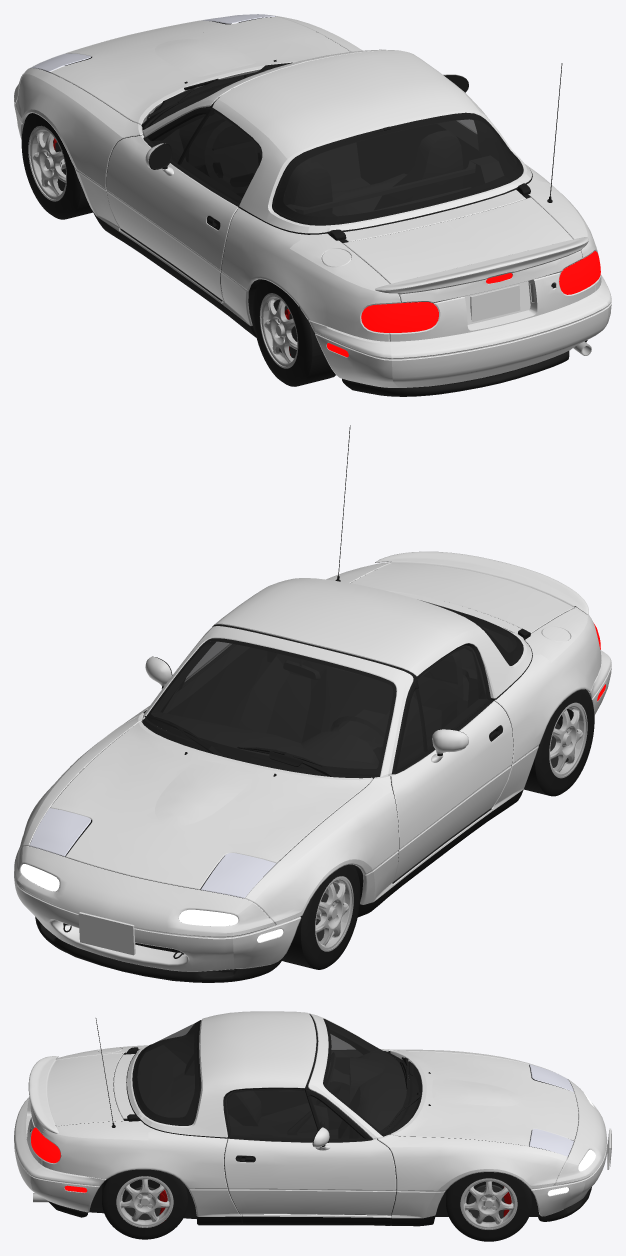
File: sillymobile.glb
The picture shows the model from 3 angles, top to bottom: view 1: azimuth 30°, elevation 25°; view 2: azimuth 150°, elevation 25°; view 3: azimuth 270°, elevation 25°; orthographic projection. The views are drawn at different scales.
Parts seen in each view (by area): view 1: Mazda MX5 Miata_4, Rear Wheels_3, Front Left Wheels_0, Pop ups_2; view 2: Mazda MX5 Miata_4, Front Left Wheels_0, Rear Wheels_3, Pop ups_2; view 3: Mazda MX5 Miata_4, Rear Wheels_3, Front Right Wheels_1, Pop ups_2.
Boxes of the visible parts, x1=… form: Mazda MX5 Miata_4: x1=14, y1=15, x2=611, y2=396; Rear Wheels_3: x1=253, y1=279, x2=335, y2=386; Front Left Wheels_0: x1=21, y1=113, x2=92, y2=219; Pop ups_2: x1=30, y1=14, x2=275, y2=72; Mazda MX5 Miata_4: x1=14, y1=425, x2=611, y2=982; Front Left Wheels_0: x1=282, y1=864, x2=360, y2=969; Rear Wheels_3: x1=524, y1=689, x2=594, y2=796; Pop ups_2: x1=29, y1=808, x2=276, y2=898; Mazda MX5 Miata_4: x1=14, y1=1011, x2=611, y2=1226; Rear Wheels_3: x1=102, y1=1169, x2=187, y2=1239; Front Right Wheels_1: x1=446, y1=1172, x2=531, y2=1241; Pop ups_2: x1=529, y1=1064, x2=573, y2=1156.
Bounding box in the file's own units: 0.7204 × 0.6146 × 1.57.
